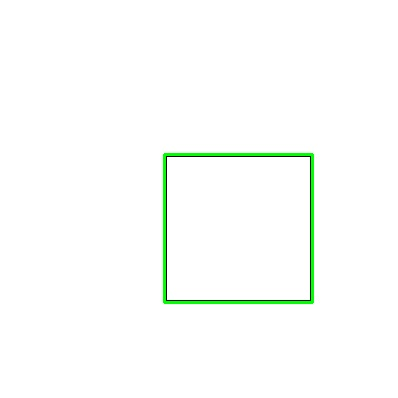line_segment: (163, 153, 314, 304)
